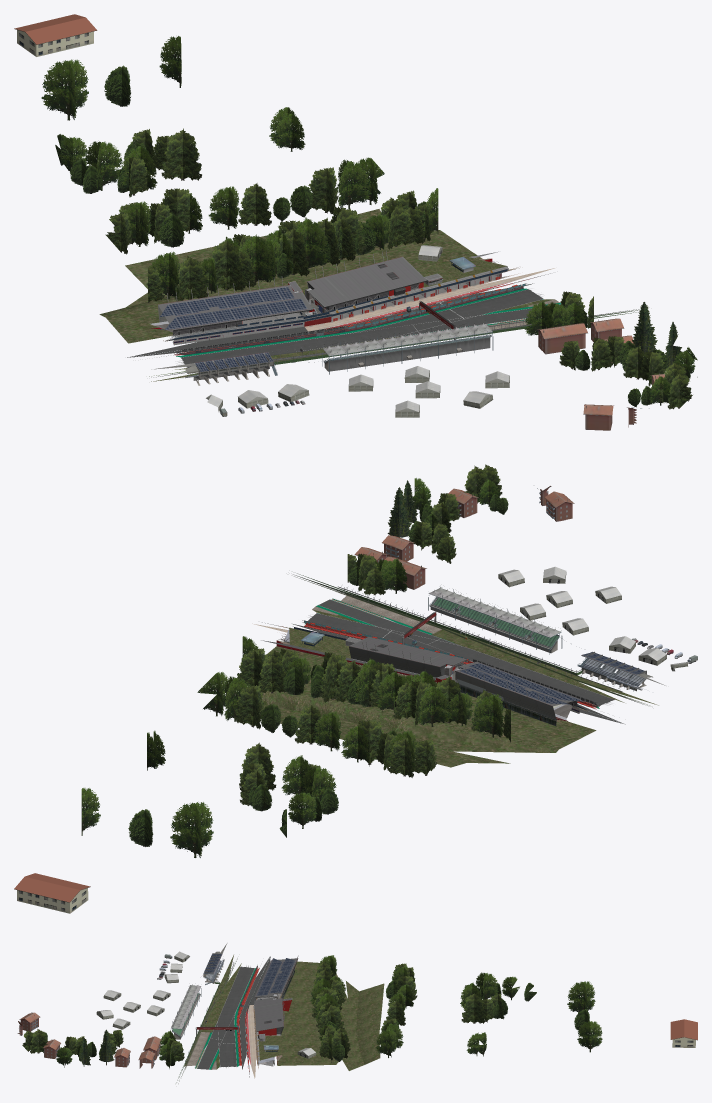
The picture shows the model from 3 angles, top to bottom: view 1: azimuth 30°, elevation 25°; view 2: azimuth 150°, elevation 25°; view 3: azimuth 270°, elevation 25°; orthographic projection. The views are drawn at different scales.
Parts seen in each view (by area): view 1: tile_t10; view 2: tile_t10; view 3: tile_t10.
Boxes of the visible parts, x1,y1,x2,y2 form: tile_t10: (14,14,697,430); tile_t10: (14,464,697,913); tile_t10: (17,943,697,1083).
Bounding box in the file's own units: 280 × 45.7 × 601.
Materials: 48 (48 with a texture image).
